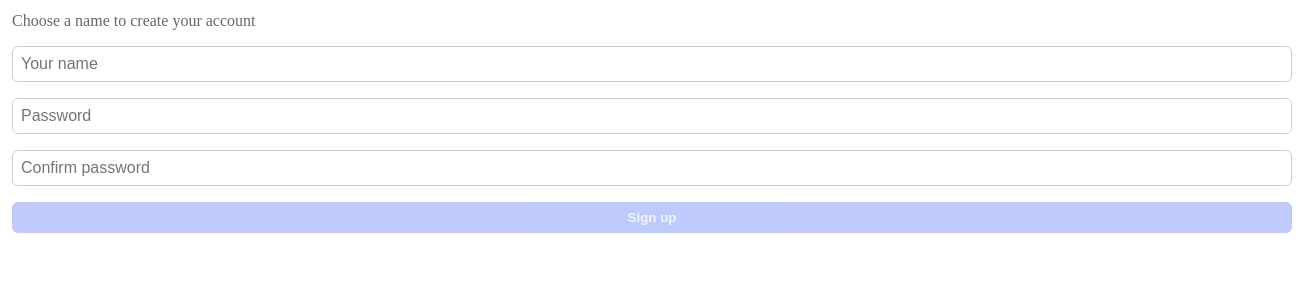
Creating an already existing user shows a user friendly error
In the field with placeholder "Your name": (652, 64) [12,46,1292,82], type "Alice"
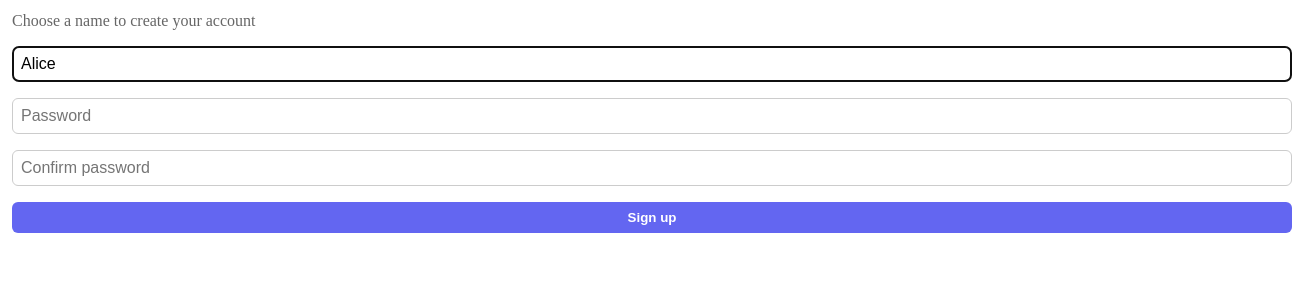
In the password field with placeholder "Password": (652, 116) [12,98,1292,134], type "secret"
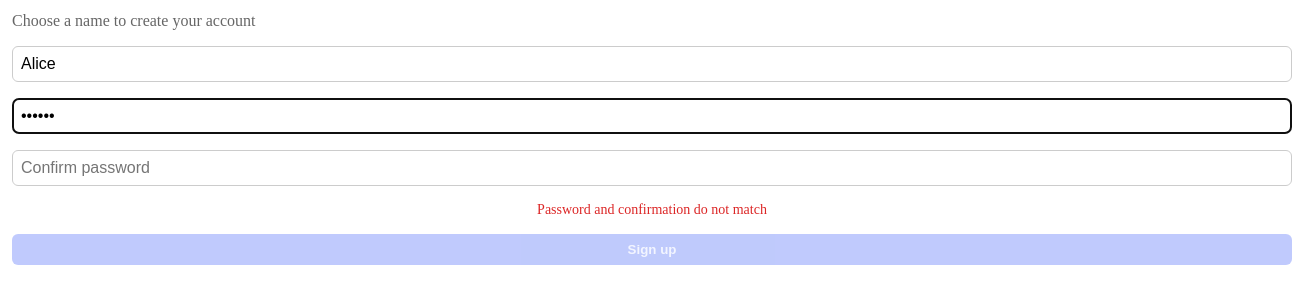
In the password field with placeholder "Confirm password": (652, 168) [12,150,1292,186], type "secret"
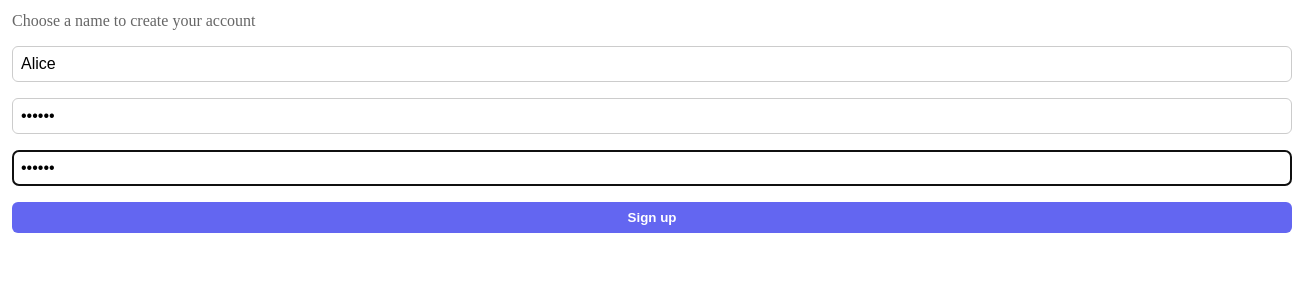
Click the button "Sign up": (652, 218) [12,202,1292,233]
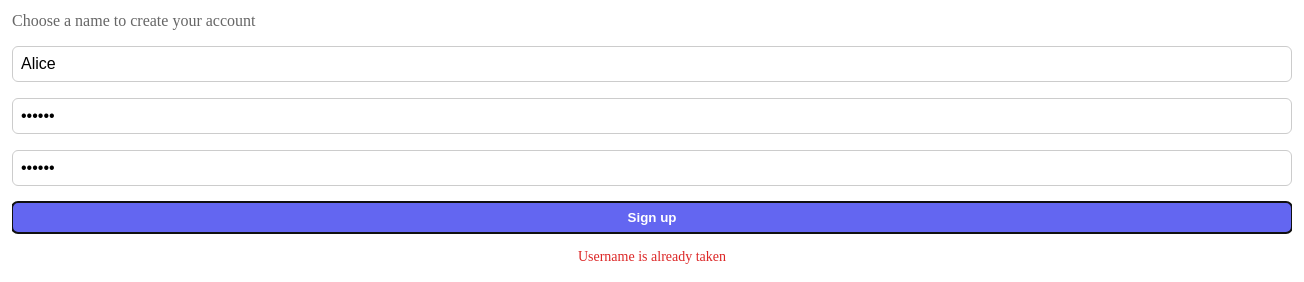
Expected: the text "Username is already taken" is shown, [578,249,726,264]
